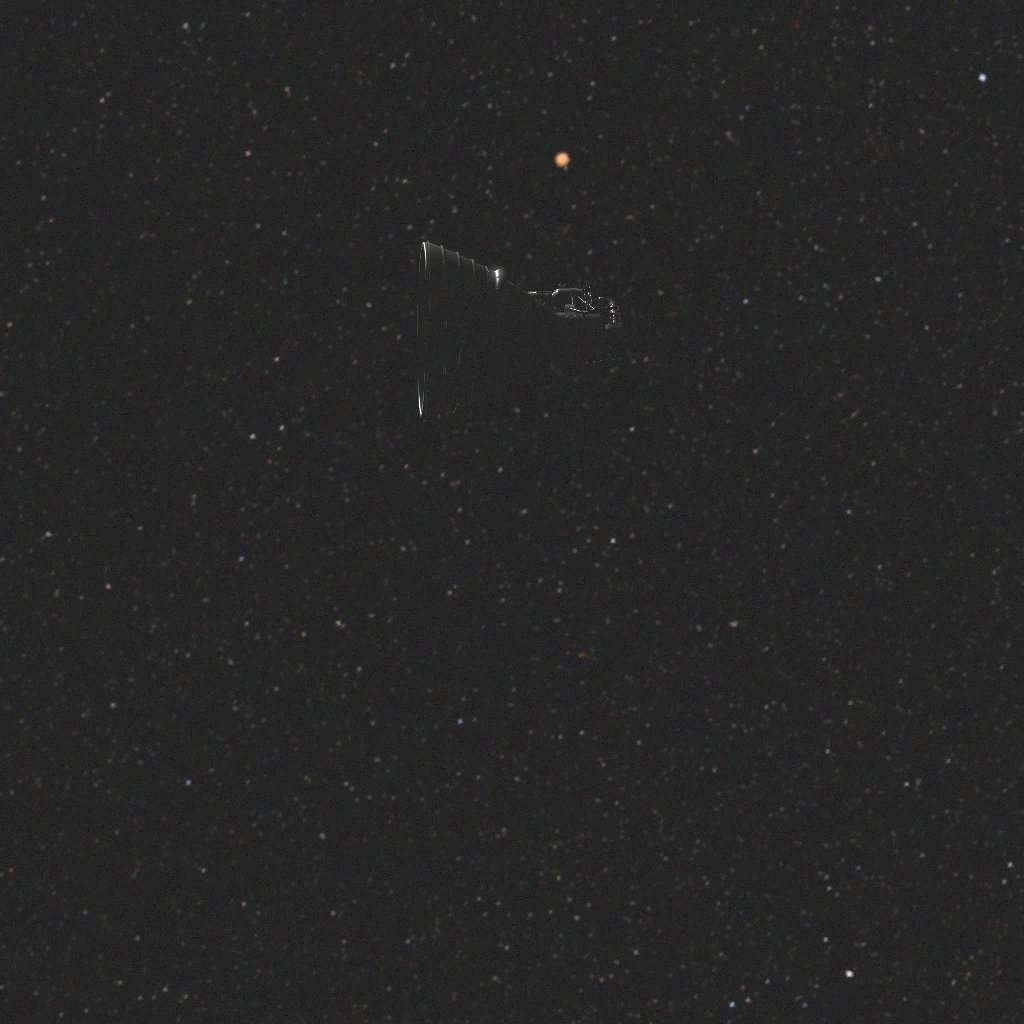debris: (392, 241, 621, 433)
